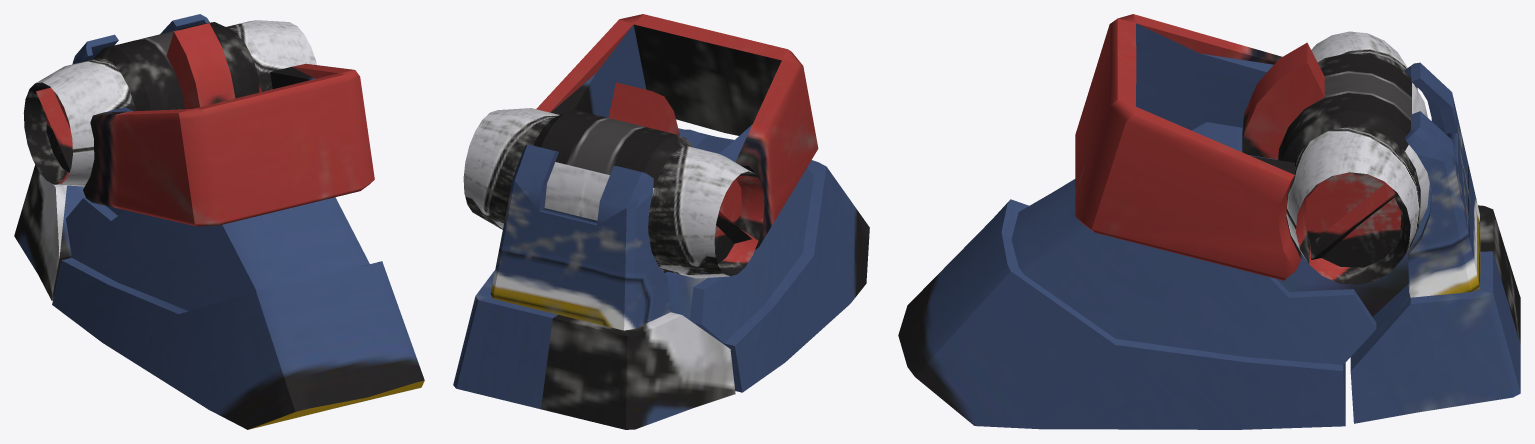
Rendered from foot2.obj.
The picture shows the model from 3 angles, left to right: view 1: azimuth 30°, elevation 25°; view 2: azimuth 150°, elevation 25°; view 3: azimuth 270°, elevation 25°; orthographic projection. The views are drawn at different scales.
Parts seen in each view (by area): view 1: group1 polySurface666 polySurface695, polySurface698 group1 polySurface666, group1 polySurface666 polySurface697, group1 polySurface666 polySurface696; view 2: group1 polySurface666 polySurface696, group1 polySurface666 polySurface697, polySurface698 group1 polySurface666, group1 polySurface666 polySurface695; view 3: group1 polySurface666 polySurface695, polySurface698 group1 polySurface666, group1 polySurface666 polySurface697, group1 polySurface666 polySurface696.
Part boxes in pixels (x1,y1,x2,y2): group1 polySurface666 polySurface695: [52, 197, 424, 429]; polySurface698 group1 polySurface666: [83, 63, 374, 226]; group1 polySurface666 polySurface697: [23, 20, 316, 186]; group1 polySurface666 polySurface696: [14, 14, 209, 300]; group1 polySurface666 polySurface696: [453, 145, 735, 429]; group1 polySurface666 polySurface697: [463, 82, 764, 278]; polySurface698 group1 polySurface666: [536, 14, 818, 249]; group1 polySurface666 polySurface695: [665, 128, 869, 392]; group1 polySurface666 polySurface695: [898, 122, 1431, 429]; polySurface698 group1 polySurface666: [1075, 14, 1301, 280]; group1 polySurface666 polySurface697: [1242, 31, 1429, 284]; group1 polySurface666 polySurface696: [1350, 62, 1520, 423].
Size of the model in its own units: 3.29 by 3.52 by 6.13.
1 material, 1 textured.
